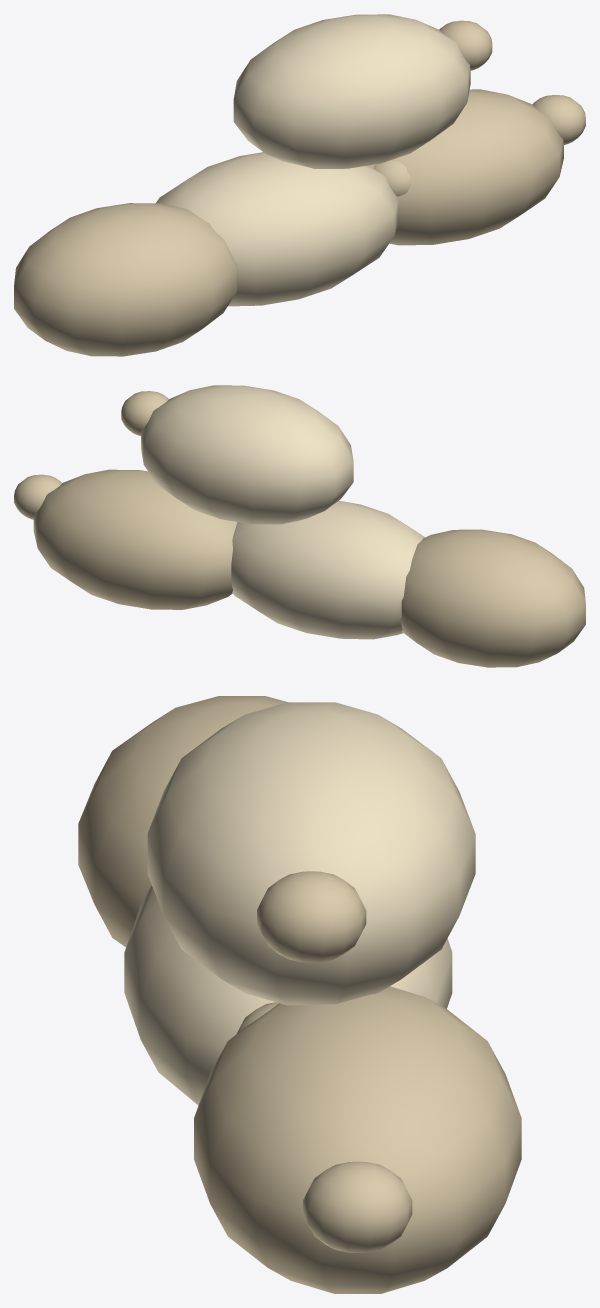
The model's file is kit__sacks.fbx.
3 views of the same model, one above another, from view 1: azimuth 30°, elevation 25°; view 2: azimuth 150°, elevation 25°; view 3: azimuth 270°, elevation 25° (orthographic). The views are drawn at different scales.
Parts seen in each view (by area): view 1: kit__sacks; view 2: kit__sacks; view 3: kit__sacks.
Part boxes in pixels (box(x1,y1,x2,y2)): kit__sacks: box(14, 14, 585, 356); kit__sacks: box(14, 385, 585, 667); kit__sacks: box(78, 696, 521, 1293).
Bounding box in the file's own units: 2.65 × 1.05 × 0.9591.
